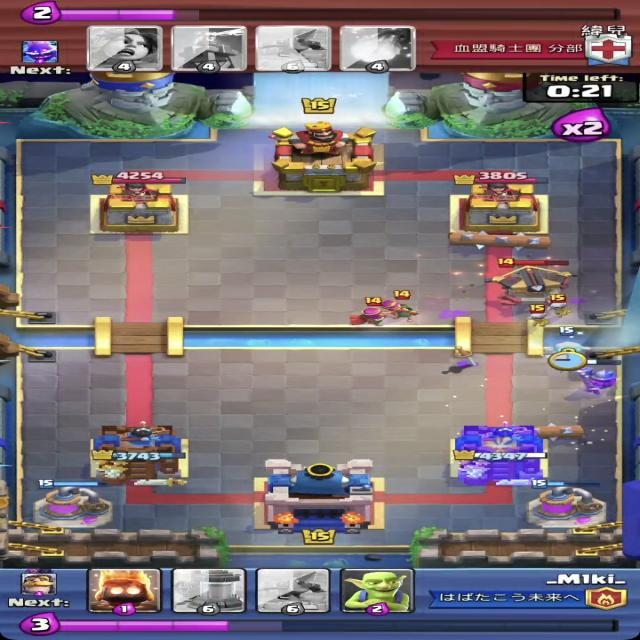Enemy-Archer: (348, 296, 392, 327), (383, 290, 422, 324)
Enemy-Skeleton: (546, 294, 574, 321), (526, 304, 553, 328)
Enemy-XBow: (482, 258, 582, 306)
Player-ElixirPump: (525, 478, 609, 530), (31, 479, 115, 530)
Player-IceSpirit: (549, 326, 590, 358)
Player-Musketeer: (565, 356, 620, 396)
